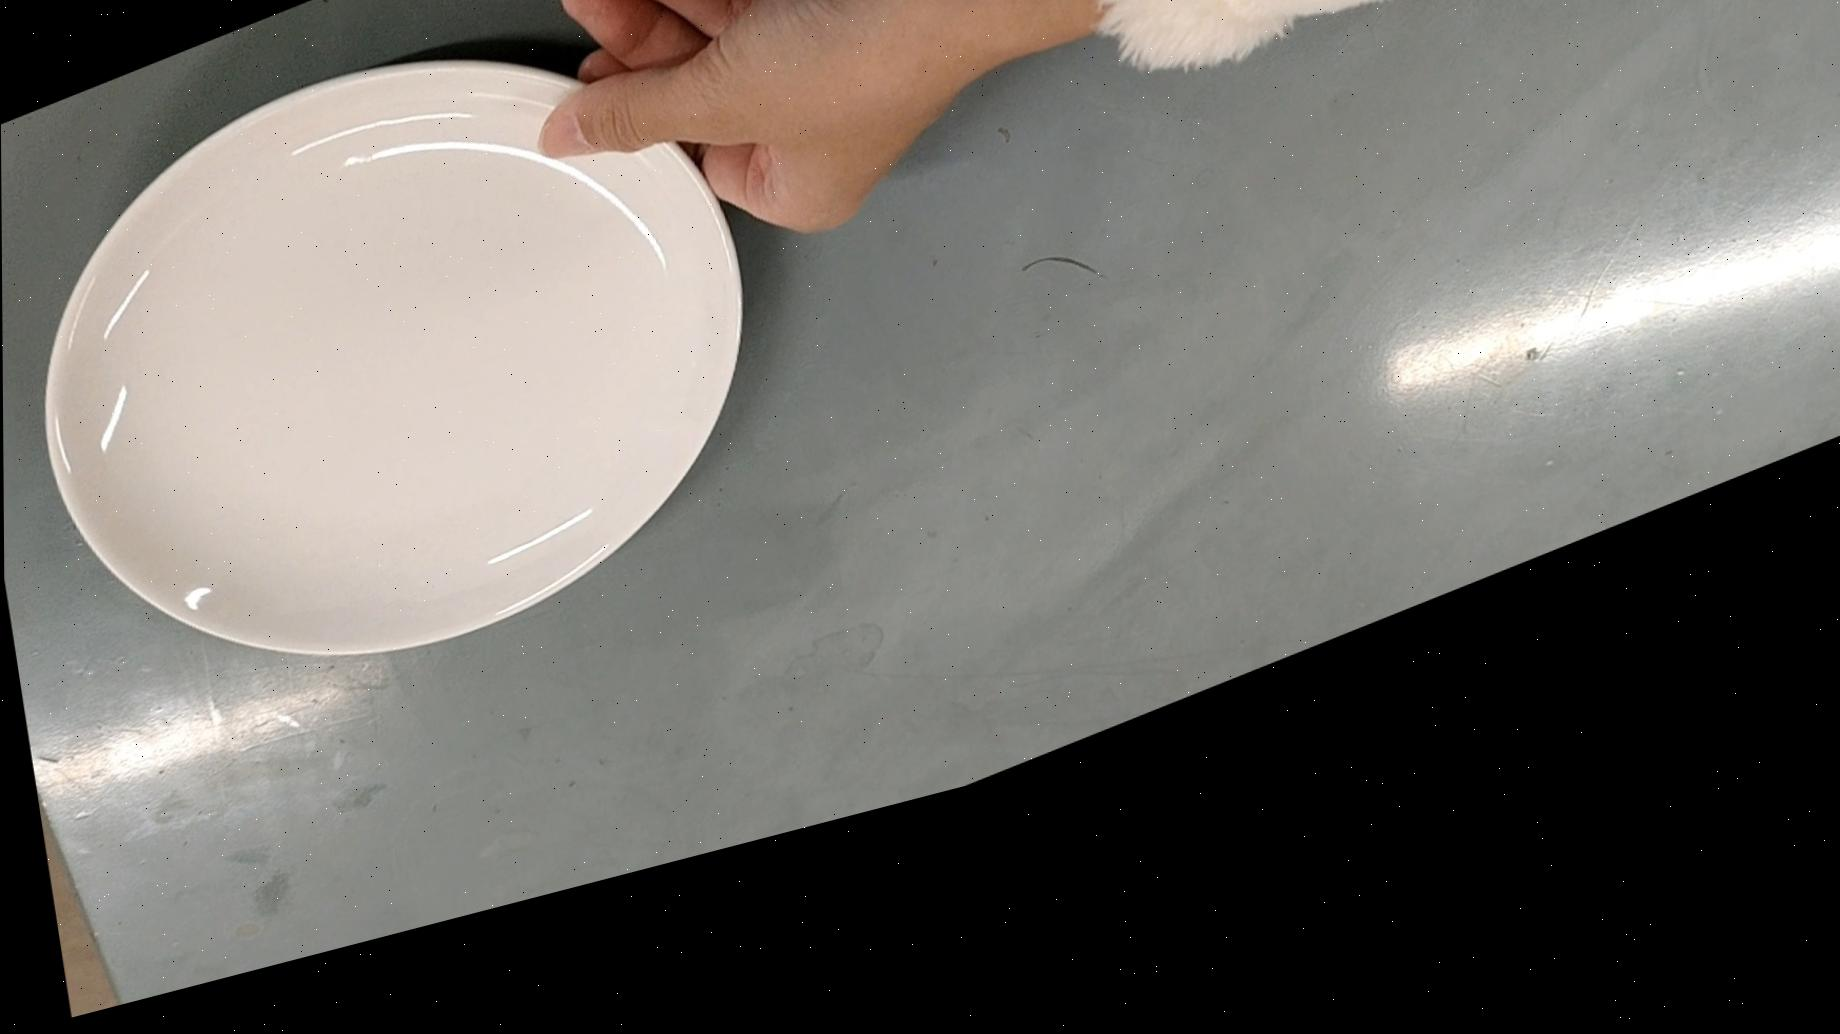plate: (9, 0, 775, 808)
